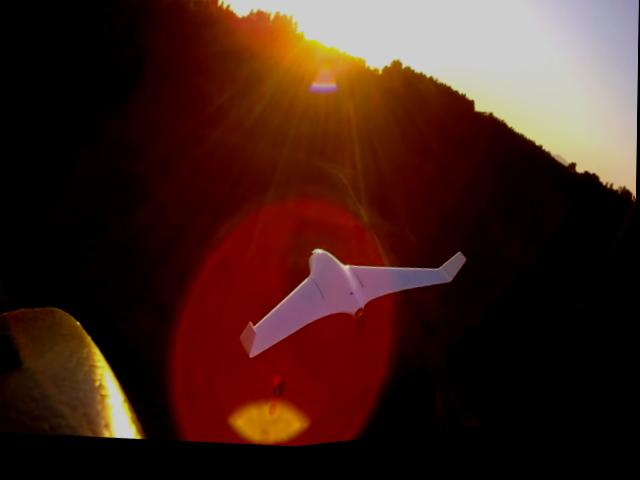plane: (235, 228, 468, 399)
